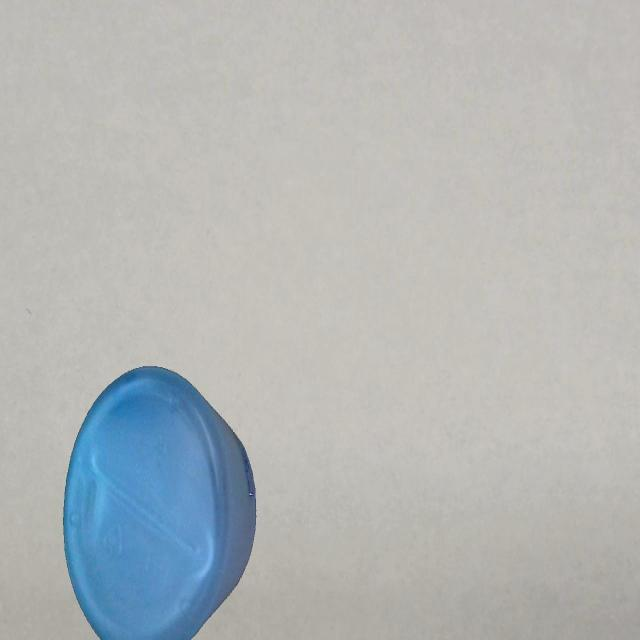bottle: (62, 361, 256, 640)
